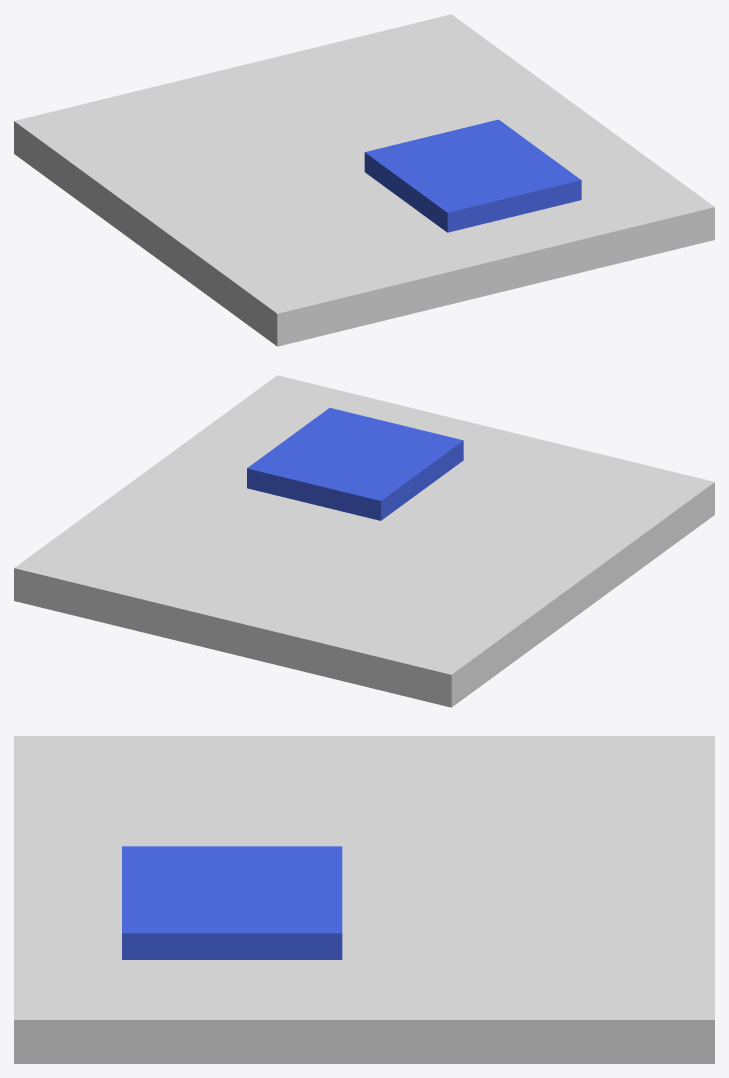
File: claymore.obj
3 renders of one model, top to bottom at view 1: azimuth 30°, elevation 25°; view 2: azimuth 150°, elevation 25°; view 3: azimuth 270°, elevation 25°, orthographic. The views are drawn at different scales.
Visible parts, largest first — view 1: cube1; view 2: cube1; view 3: cube1.
Boxes of the visible parts, box(x1,y1,x2,y2) form: cube1: box(14, 14, 714, 346); cube1: box(14, 375, 714, 707); cube1: box(14, 736, 714, 1063).
Bounding box in the file's own units: 34.46 × 3.97 × 35.95.
2 materials, 2 textured.
